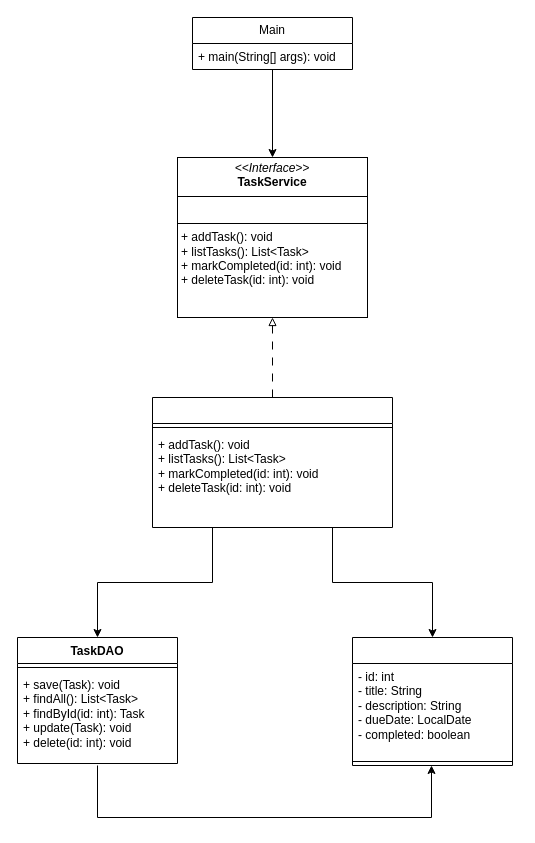
Some shapes in this 535 by 843 pixel diagram are drawn without their labels. The shapes that lost their labels are listed below. From the top down, each one's box as (x1, y1, x2, y2) in pixels, then its label:
(152, 396, 392, 528): TaskServiceImpl
(352, 636, 512, 766): Task
